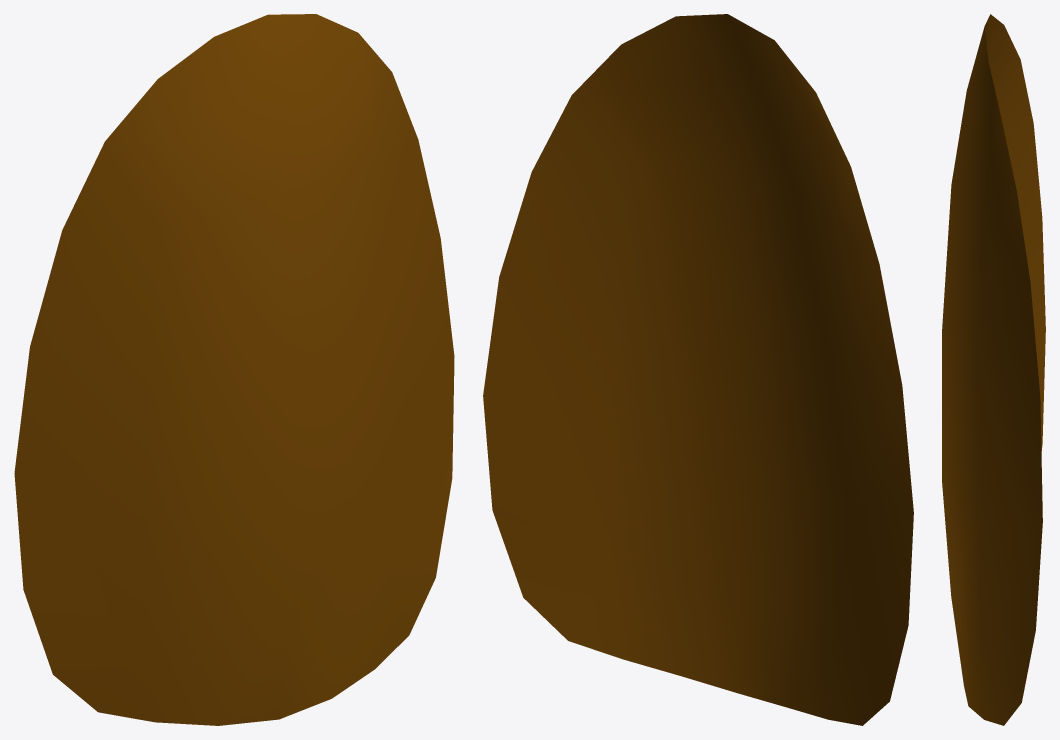
Rendered from MD_nail_oval_HandL.Thumb.fbx.
3 views of the same model, side by side, from view 1: azimuth 30°, elevation 25°; view 2: azimuth 150°, elevation 25°; view 3: azimuth 270°, elevation 25° (orthographic). The views are drawn at different scales.
Parts seen in each view (by area): view 1: MD_nail_oval_HandL.Thumb; view 2: MD_nail_oval_HandL.Thumb; view 3: MD_nail_oval_HandL.Thumb.
Boxes of the visible parts, x1,y1,x2,y2 form: MD_nail_oval_HandL.Thumb: (14,14,454,725); MD_nail_oval_HandL.Thumb: (483,14,913,725); MD_nail_oval_HandL.Thumb: (942,14,1045,725).
Bounding box in the file's own units: 0.923 × 1.4 × 0.2.
